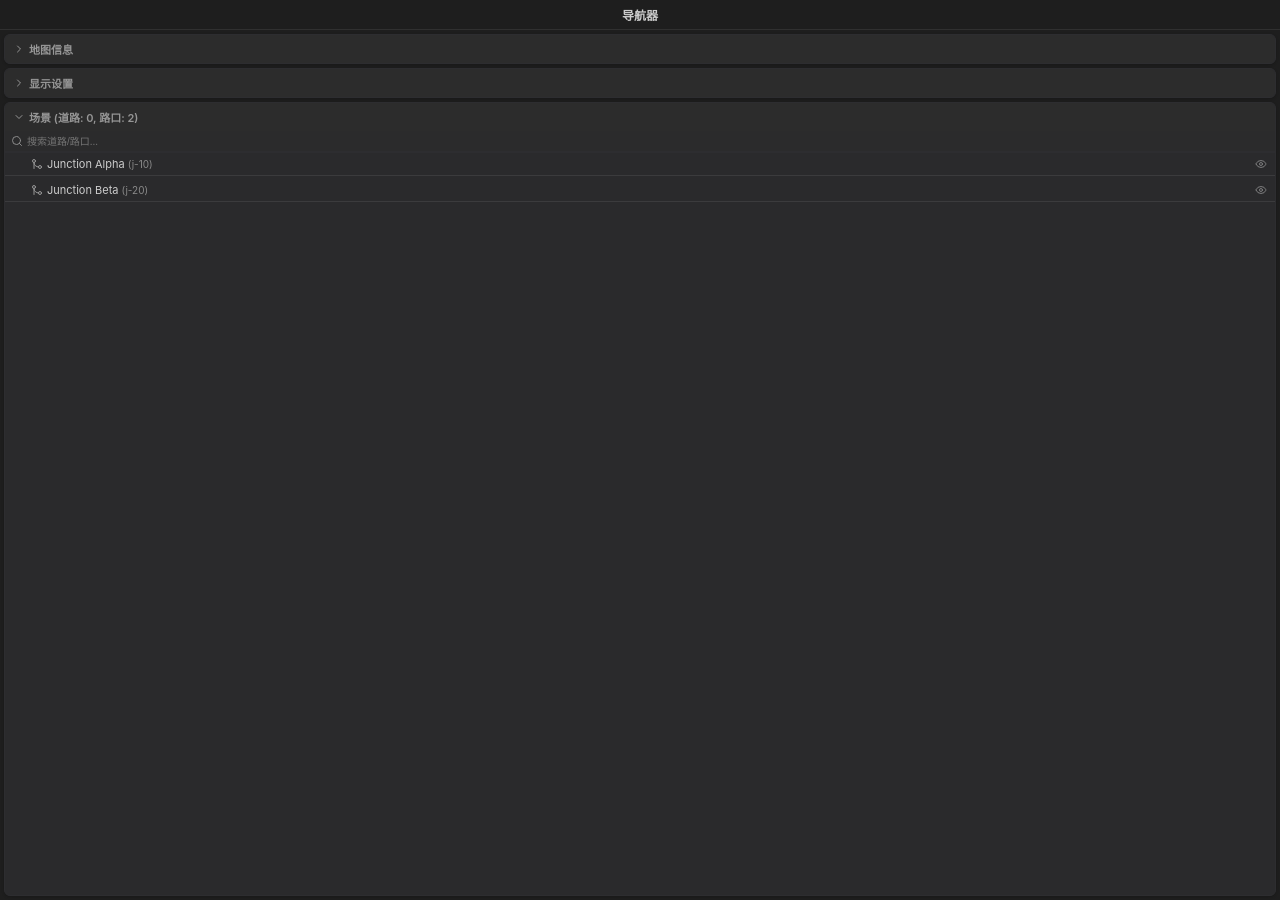
LayerPanel › filters junctions by id
The image size is (1280, 900).
In the field with placeholder "搜索道路/路口...": (648, 141) [27, 136, 1269, 146], type "j-10"
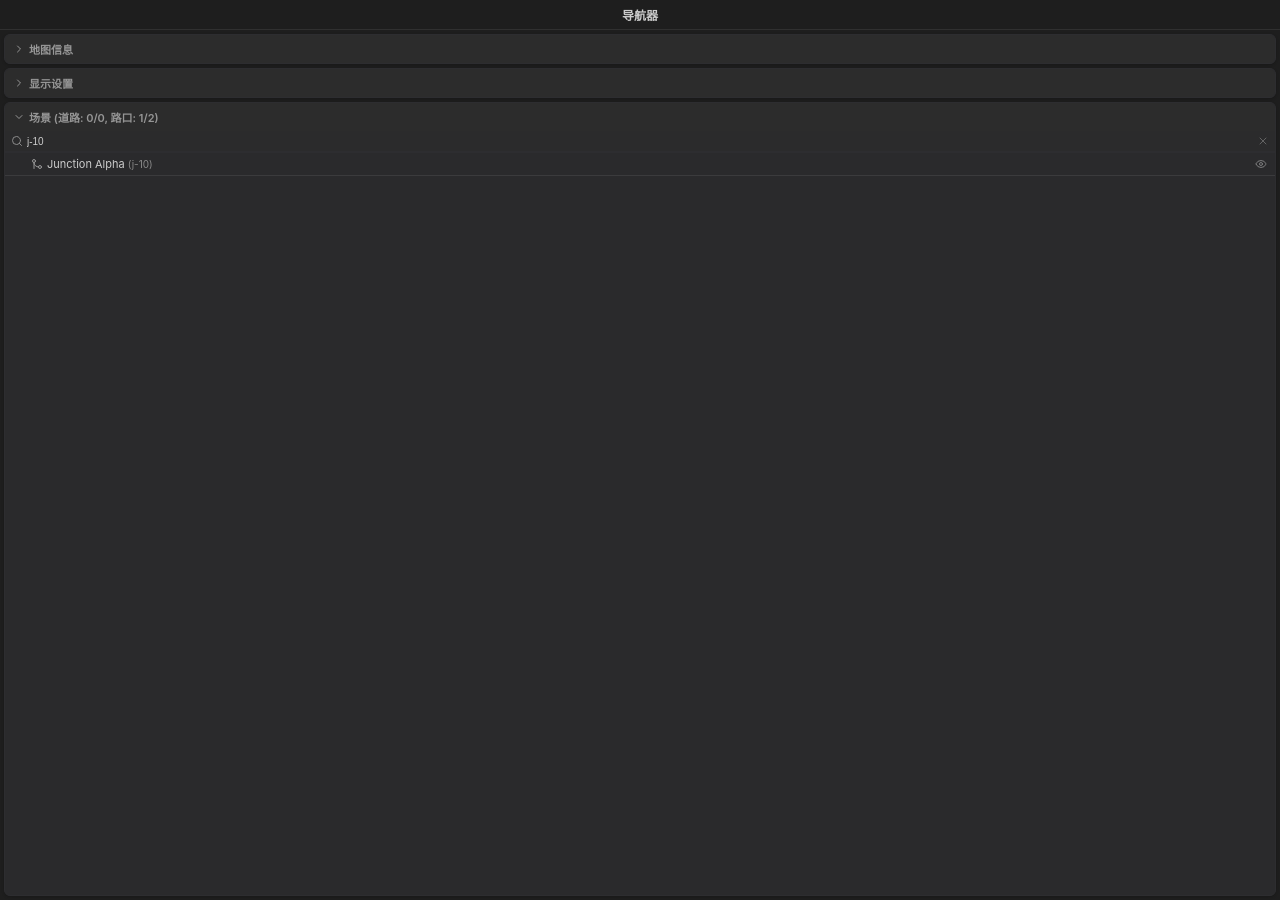
Expected: the text "Junction Alpha" is shown, [47, 157, 125, 171]
Now the text "Junction Beta" is gone
